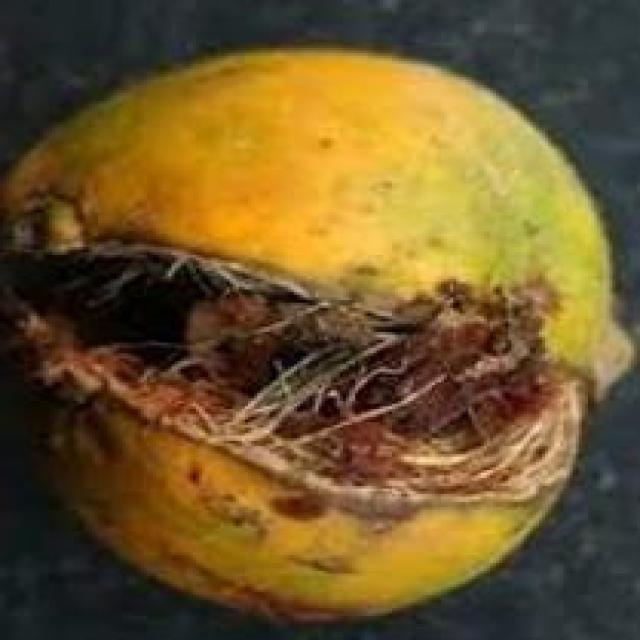damaged: (0, 48, 631, 613)
